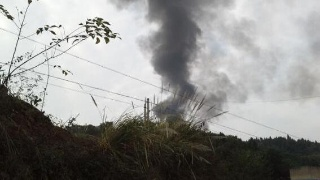smoke: (141, 1, 242, 112)
